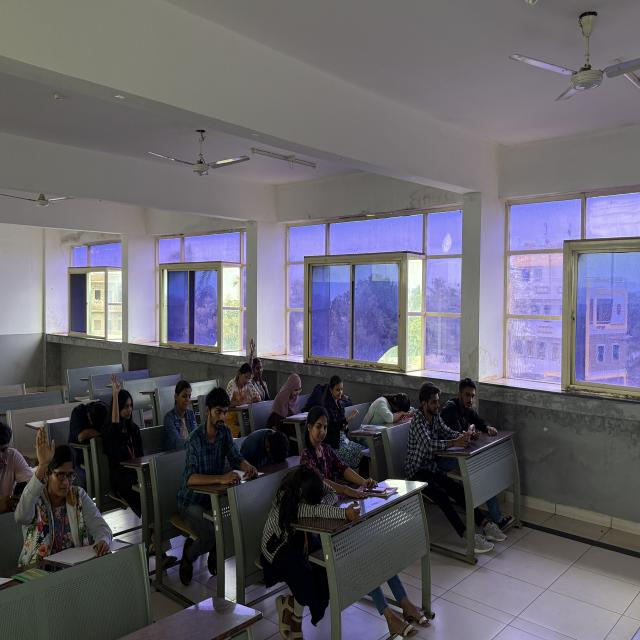Hand Rising: (5, 421, 126, 580), (103, 368, 152, 487), (245, 337, 269, 401)
Reading: (223, 362, 262, 418), (268, 372, 310, 423)
Sleeping: (254, 458, 368, 624), (362, 380, 417, 431), (66, 390, 113, 447), (238, 424, 296, 468)
Using Phone: (408, 380, 476, 506)
